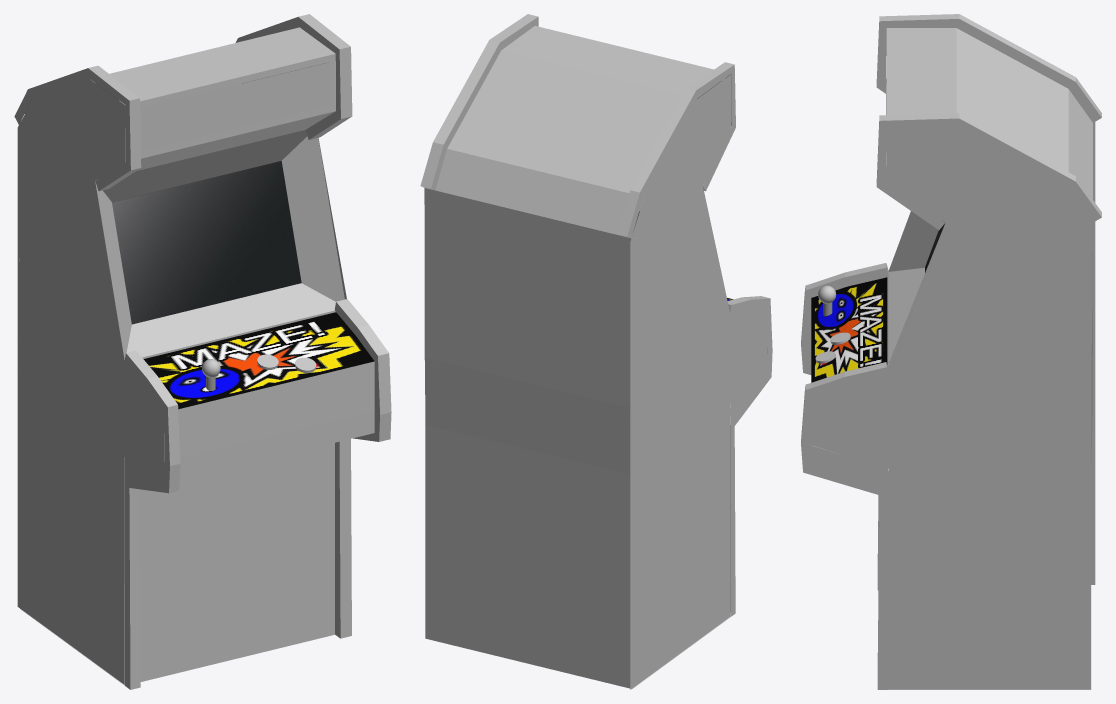
File: ArcardeDireito.obj
3 views of the same model, side by side, from view 1: azimuth 30°, elevation 25°; view 2: azimuth 150°, elevation 25°; view 3: azimuth 270°, elevation 25° (orthographic). The views are drawn at different scales.
Parts seen in each view (by area): view 1: Box001, Plane001, Main_Image, Screen, Controlller_Screen, Top_Image; view 2: Box001, Plane001; view 3: Plane002, Box001, Controlller_Screen, Plane001.
Boxes of the visible parts, x1,y1,x2,y2 form: Box001: [14, 14, 391, 689]; Plane001: [17, 79, 164, 684]; Main_Image: [139, 443, 334, 681]; Screen: [112, 161, 301, 324]; Controlller_Screen: [143, 312, 374, 409]; Top_Image: [143, 62, 331, 151]; Box001: [420, 14, 772, 688]; Plane001: [630, 75, 767, 689]; Plane002: [811, 127, 1092, 689]; Box001: [801, 14, 1101, 689]; Controlller_Screen: [811, 277, 887, 382]; Plane001: [887, 122, 1095, 584].
Bounding box in the file's own units: 3.14 × 7.99 × 3.81.
